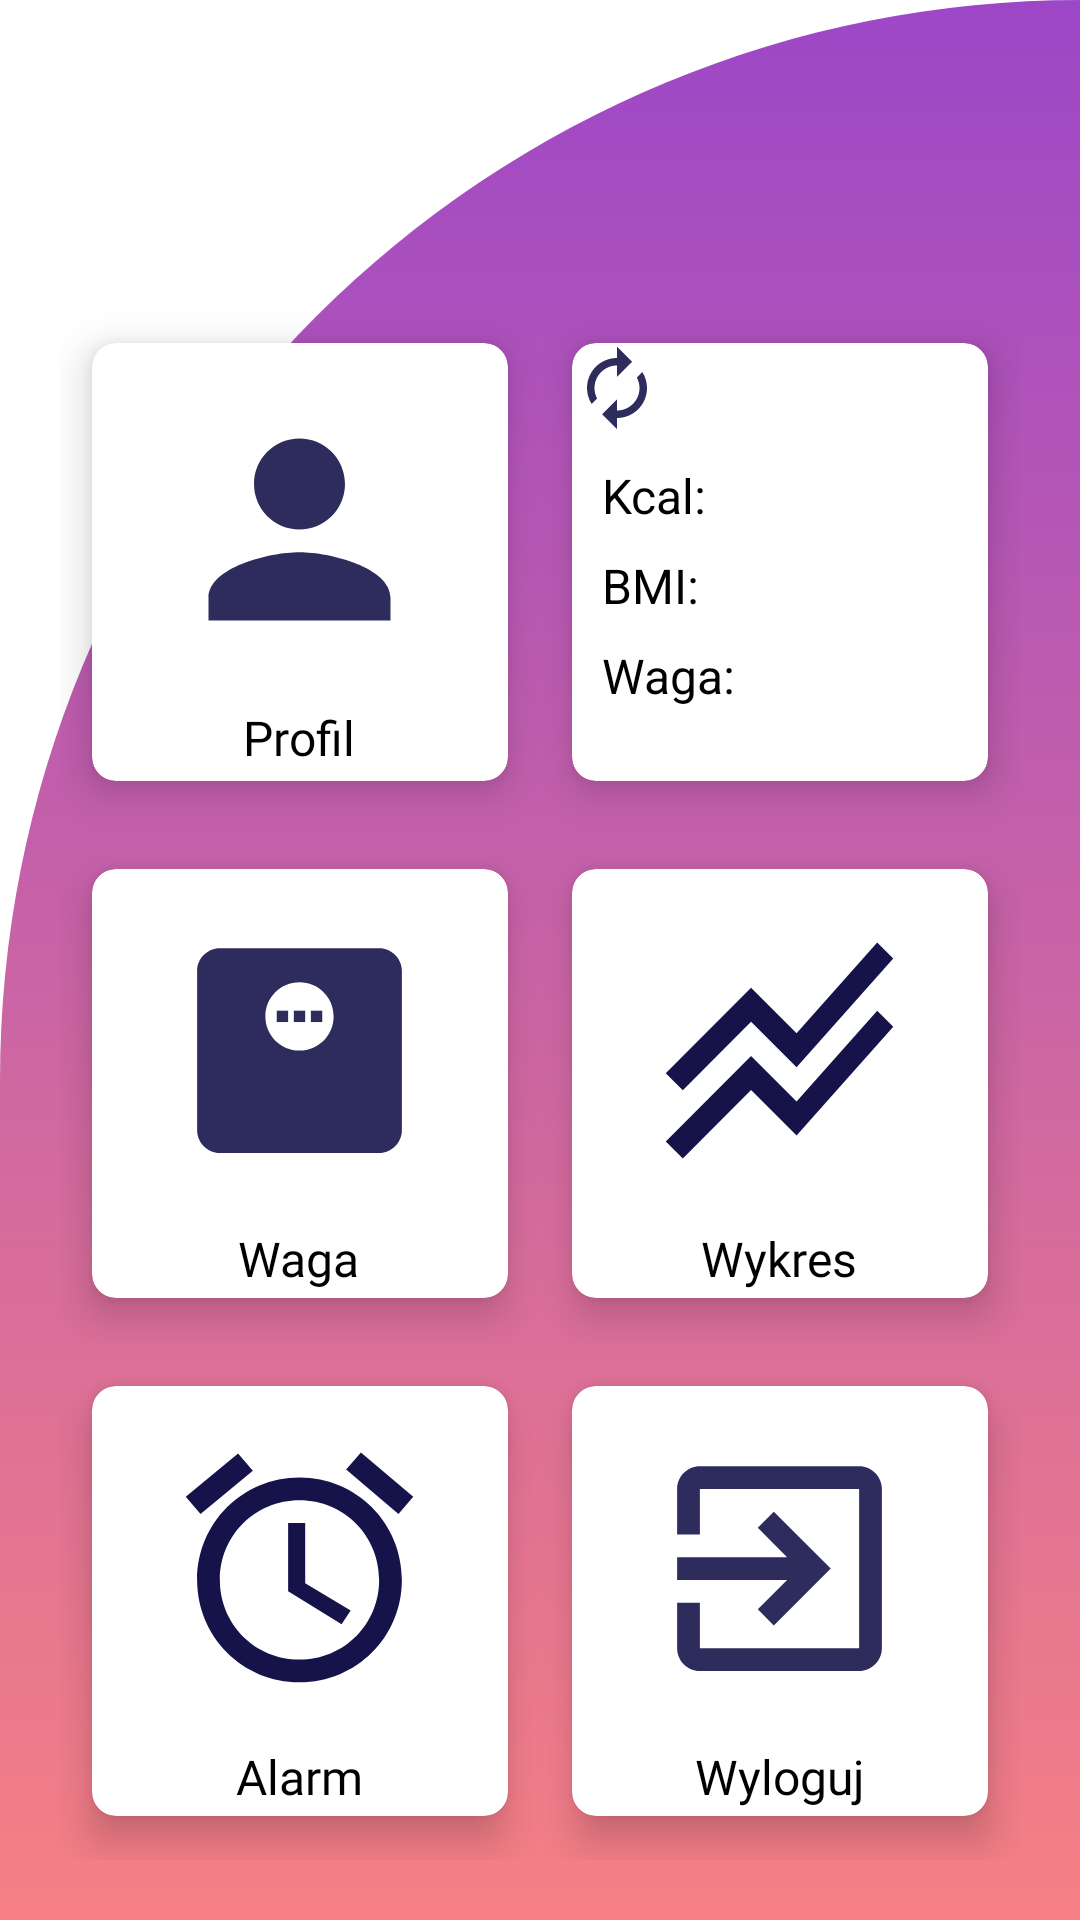

Point at icon controls on the screen. Image size 1080 x 1920, points as (x,y).
autorenew: (617,388)
exit to app: (779,1568)
person: (299,529)
stacked line chart: (779,1050)
weight: (299,1050)
